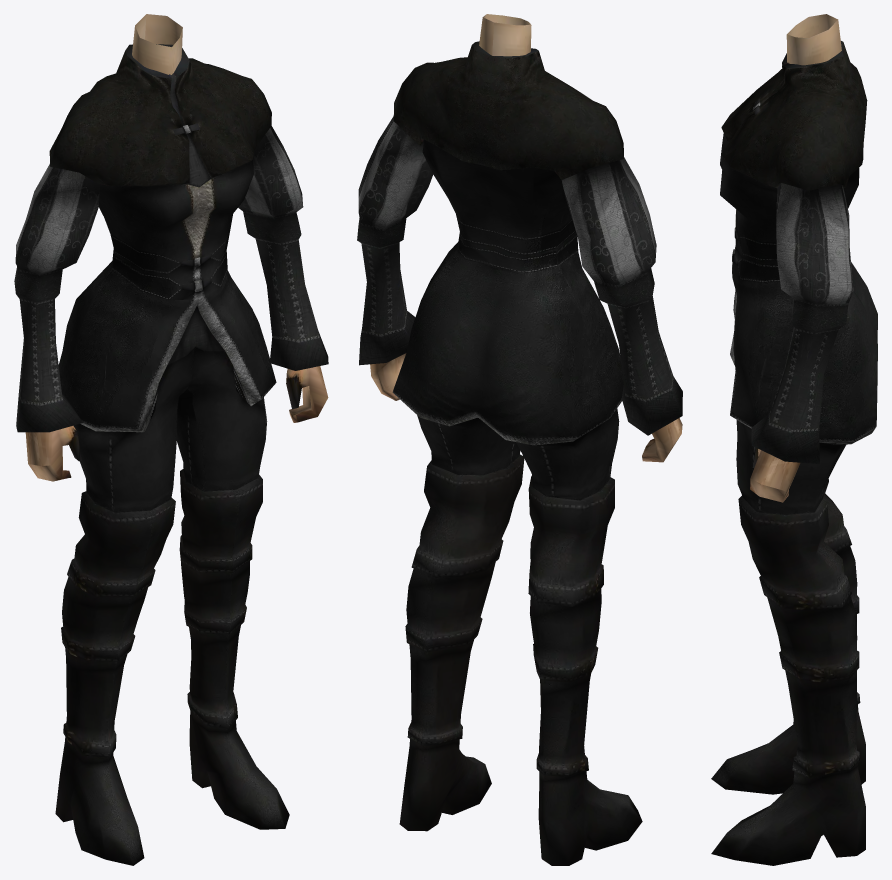
Rendered from STROJ_KOBIECY_CZARNY_01.glb.
3 views of the same model, side by side, from view 1: azimuth 30°, elevation 25°; view 2: azimuth 150°, elevation 25°; view 3: azimuth 270°, elevation 25° (orthographic). The views are drawn at different scales.
Visible parts, largest first — view 1: STROJ_KOBIECY_CZARNY_01; view 2: STROJ_KOBIECY_CZARNY_01; view 3: STROJ_KOBIECY_CZARNY_01.
Boxes of the visible parts, box(x1,y1,x2,y2) form: STROJ_KOBIECY_CZARNY_01: box(14, 14, 328, 865); STROJ_KOBIECY_CZARNY_01: box(357, 14, 682, 865); STROJ_KOBIECY_CZARNY_01: box(711, 14, 877, 865).
Size of the model in its own units: 0.6925 by 1.68 by 0.3182.
Materials: 2 (2 with a texture image).
